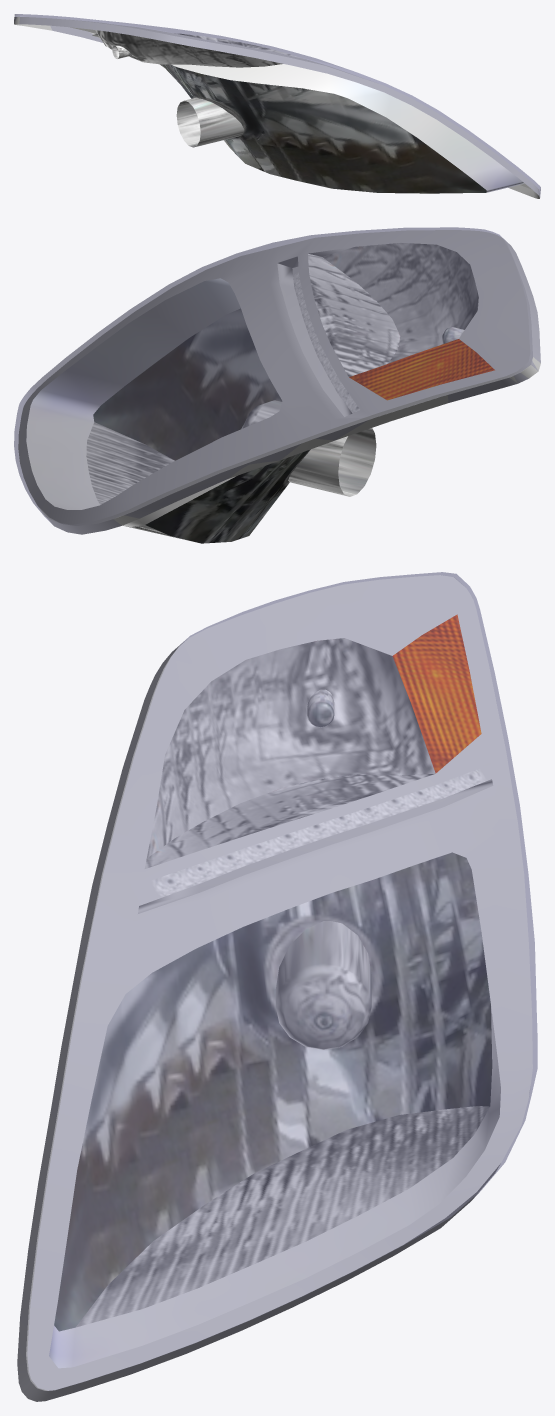
3 views of the same model, one above another, from view 1: azimuth 30°, elevation 25°; view 2: azimuth 150°, elevation 25°; view 3: azimuth 270°, elevation 25° (orthographic). The views are drawn at different scales.
Visible parts, largest first — view 1: Y191_13_061B_L_Y191_13_061B_L_2_N, Y191_13_061B_L_1_DTaSI_Y191_13_061B_L; view 2: Y191_13_061B_L_Y191_13_061B_L_2_N, Y191_13_061B_L_1_DTaSI_Y191_13_061B_L; view 3: Y191_13_061B_L_1_DTaSI_Y191_13_061B_L, Y191_13_061B_L_Y191_13_061B_L_2_N.
Part boxes in pixels (<box>): Y191_13_061B_L_Y191_13_061B_L_2_N: <box>14,16,539,198</box>; Y191_13_061B_L_1_DTaSI_Y191_13_061B_L: <box>14,14,540,196</box>; Y191_13_061B_L_Y191_13_061B_L_2_N: <box>18,230,540,543</box>; Y191_13_061B_L_1_DTaSI_Y191_13_061B_L: <box>14,227,540,534</box>; Y191_13_061B_L_1_DTaSI_Y191_13_061B_L: <box>17,572,537,1401</box>; Y191_13_061B_L_Y191_13_061B_L_2_N: <box>17,575,532,1401</box>.
Bounding box in the file's own units: 48.91 × 24.48 × 25.93.
